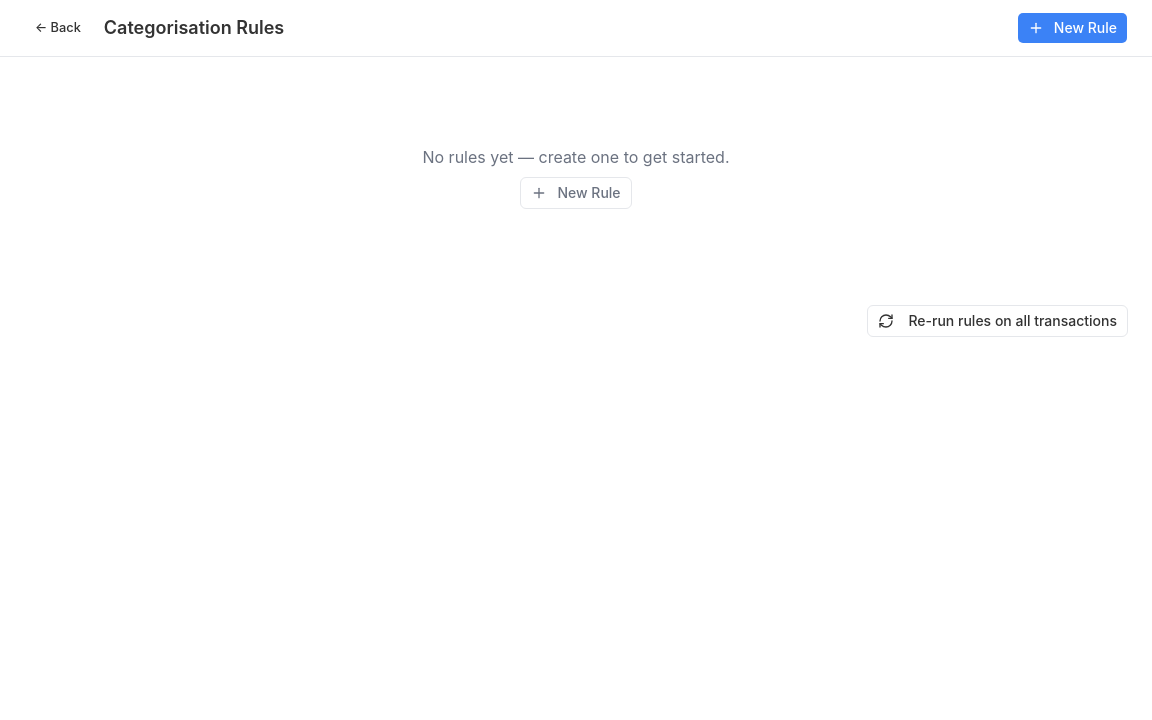
Test: RulesManagementScreen — re-run › shows confirmation dialog before re-running
This screenshot has width=1152, height=720.
Click the button with test id "rerun-button" at {"x": 998, "y": 321}, box [868,305,1128,337]
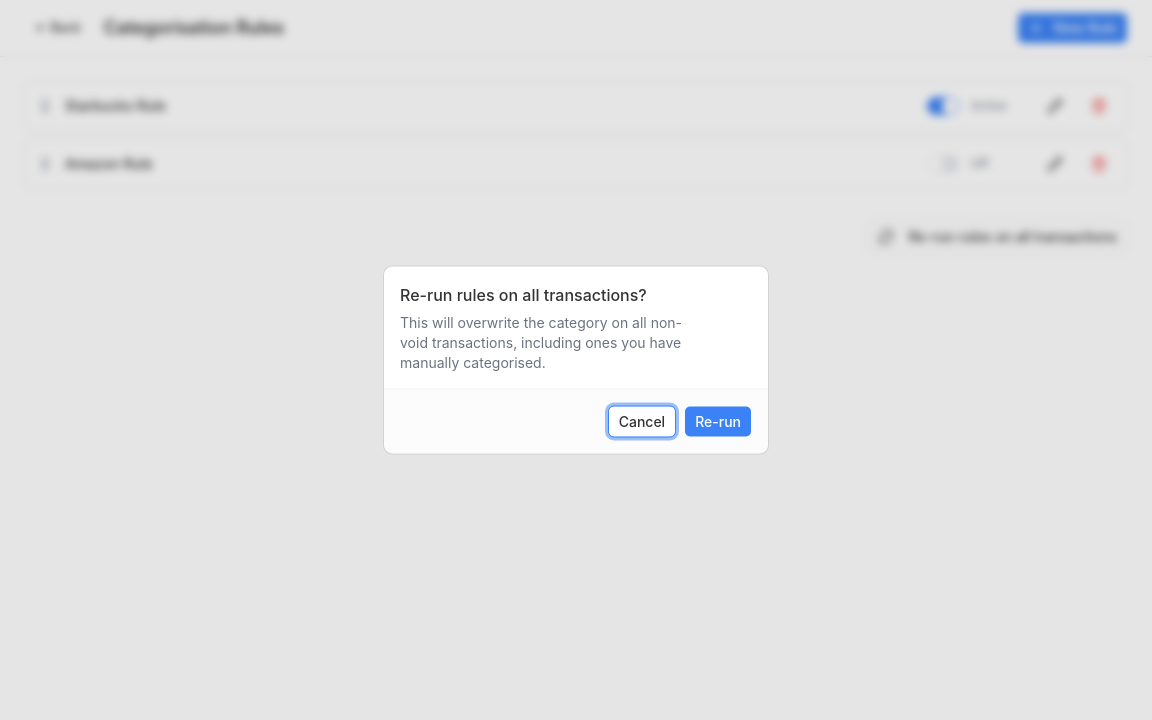
Expected: the text "overwrite" is shown, [400,314,682,370]
